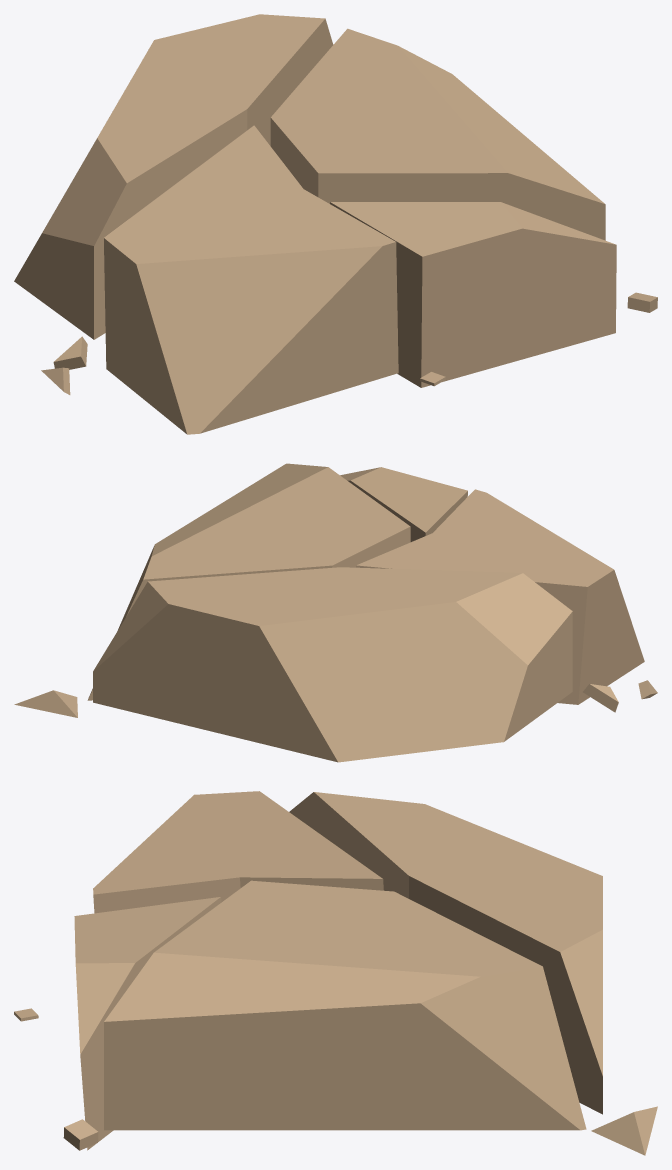
File: Rock_Flat_crk_m_03.fbx
The picture shows the model from 3 angles, top to bottom: view 1: azimuth 30°, elevation 25°; view 2: azimuth 150°, elevation 25°; view 3: azimuth 270°, elevation 25°; orthographic projection. The views are drawn at different scales.
Visible parts, largest first — view 1: Rock_Flat_crk_m_03; view 2: Rock_Flat_crk_m_03; view 3: Rock_Flat_crk_m_03.
Boxes of the visible parts, <box> form: Rock_Flat_crk_m_03: <box>14,14,657,434</box>; Rock_Flat_crk_m_03: <box>14,463,657,762</box>; Rock_Flat_crk_m_03: <box>14,791,657,1155</box>.
Bounding box in the file's own units: 162 × 47.57 × 159.
